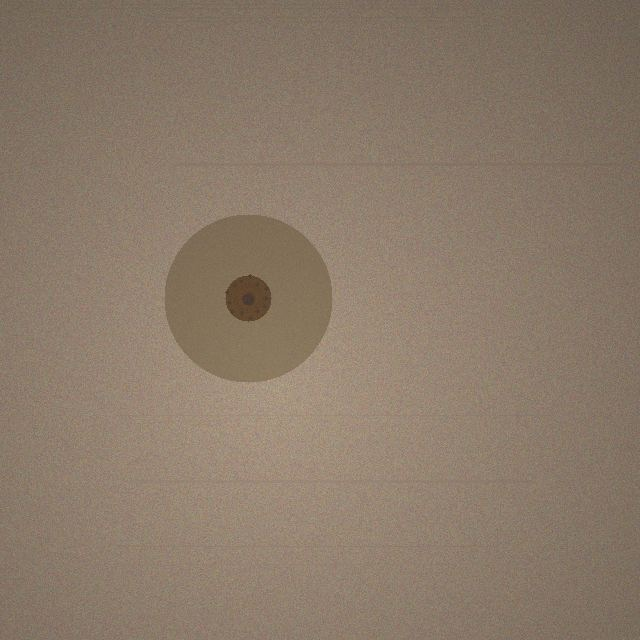cold_weld: (164, 214, 332, 382)
